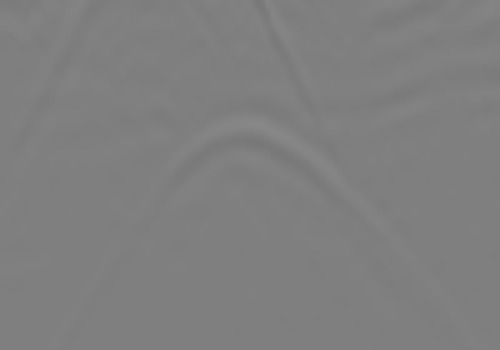hyperbola: (59, 111, 466, 323)
